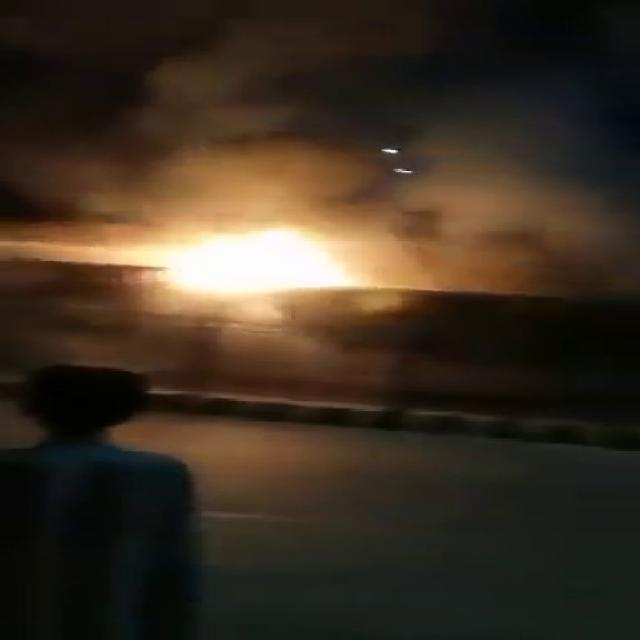Fire: (169, 226, 400, 297)
